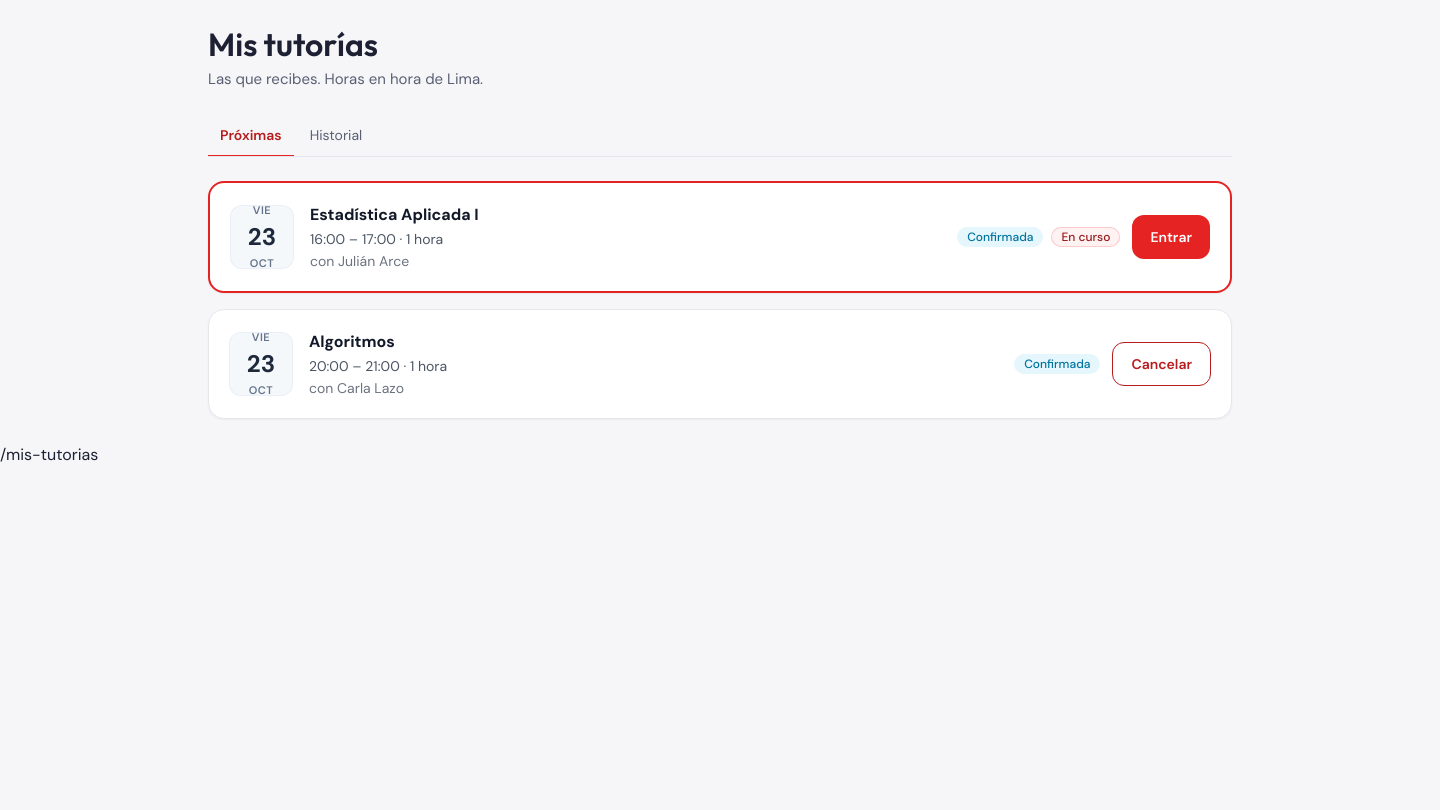
FE-12 MyTutoringsPage › handles late cancellation (409) with two-step confirmation dialog
Click the button "Cancelar". click: (1162, 364)
box: [1112,342,1211,386]
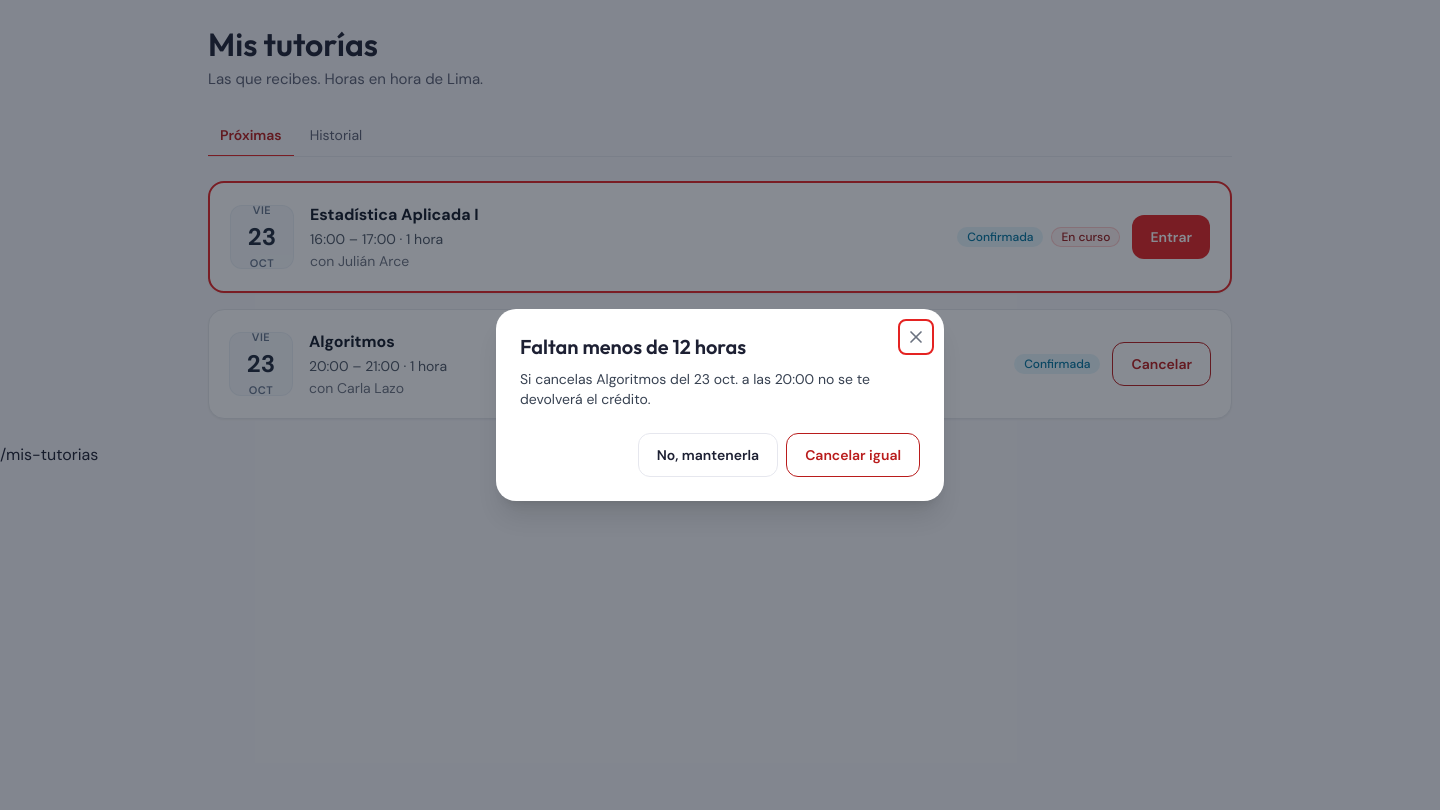
Now the heading "Faltan menos de 12 horas" is shown, box [520,334,746,359]
Now the text "no se te devolverá el crédito" is shown, box [520,370,870,408]
Note: Click "Cancelar igual" to confirm late cancellation
Click the button "Cancelar igual". click: (853, 455)
box: [786,433,920,477]
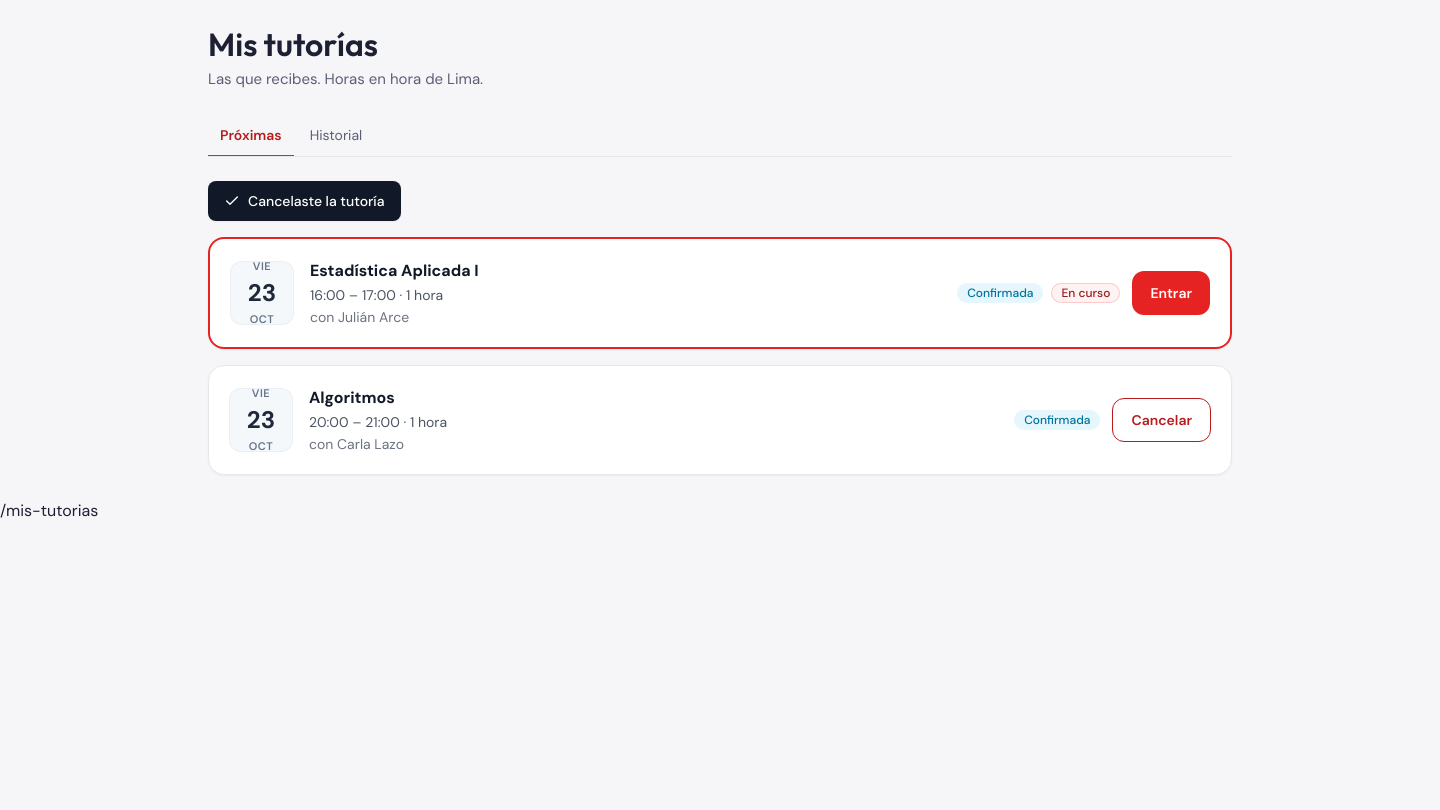
Now the text "Cancelaste la tutoría" is shown, box [248,190,384,210]
